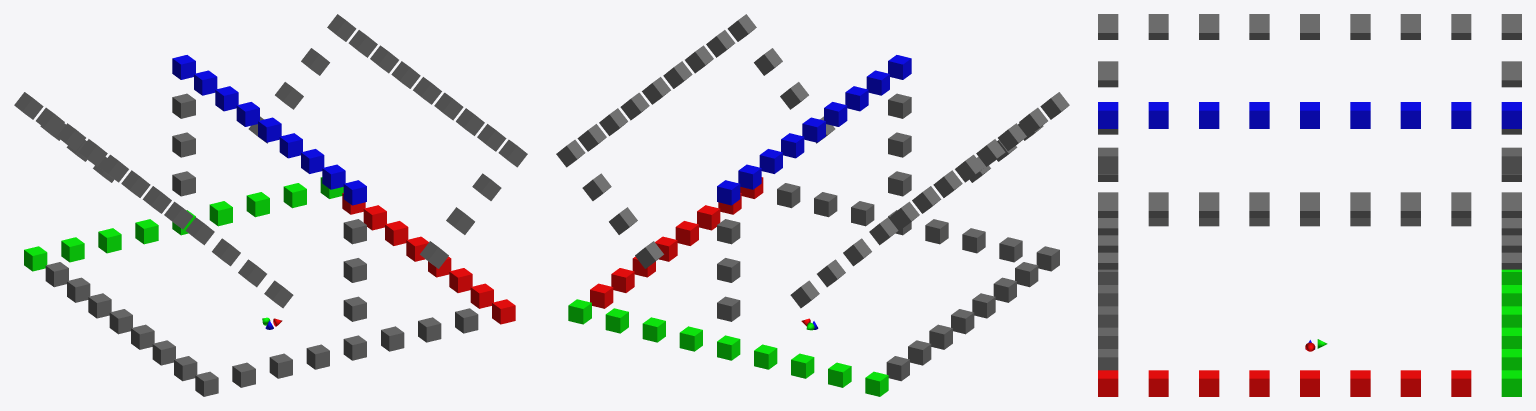
Rendered from Axis.obj.
3 renders of one model, left to right at view 1: azimuth 30°, elevation 25°; view 2: azimuth 150°, elevation 25°; view 3: azimuth 270°, elevation 25°, orthographic. The views are drawn at different scales.
Visible parts, largest first — view 1: Cube.061_Cube.064, Cube.013_Cube.014, Cube.062_Cube.065, Cube.014_Cube.015, Cube.012_Cube.013, Cube.048_Cube.051, Cube.020_Cube.021, Cube.003_Cube.004, Cube.029_Cube.030, Cube.016_Cube.017, Cube.060_Cube.063, Cube.049_Cube.052 (+30 smaller); view 2: Cube.049_Cube.052, Cube.003_Cube.004, Cube.048_Cube.051, Cube.004_Cube.005, Cube.002_Cube.003, Cube.062_Cube.065, Cube.030_Cube.031, Cube.013_Cube.014, Cube.021_Cube.022, Cube_Cube.001, Cube.061_Cube.064, Cube.050_Cube.053 (+30 smaller); view 3: Cube.060_Cube.063, Cube.050_Cube.053, Cube.059_Cube.062, Cube.058_Cube.061, Cube.057_Cube.060, Cube.056_Cube.059, Cube.054_Cube.057, Cube.053_Cube.056, Cube.052_Cube.055, Cube.051_Cube.054, Cube.012_Cube.013, Cube.011_Cube.012 (+42 smaller).
Part boxes in pixels (box(x1,y1,x2,y2)): Cube.061_Cube.064: box(172, 132, 195, 157); Cube.013_Cube.014: box(455, 308, 478, 333); Cube.062_Cube.065: box(172, 171, 195, 196); Cube.014_Cube.015: box(418, 317, 441, 342); Cube.012_Cube.013: box(492, 299, 515, 324); Cube.048_Cube.051: box(343, 296, 366, 321); Cube.020_Cube.021: box(61, 237, 84, 262); Cube.003_Cube.004: box(283, 183, 306, 208); Cube.029_Cube.030: box(195, 371, 218, 396); Cube.016_Cube.017: box(343, 335, 366, 360); Cube.060_Cube.063: box(172, 93, 195, 118); Cube.049_Cube.052: box(343, 258, 366, 282); Cube.049_Cube.052: box(888, 132, 911, 157); Cube.003_Cube.004: box(605, 308, 628, 333); Cube.048_Cube.051: box(888, 171, 911, 196); Cube.004_Cube.005: box(568, 299, 591, 324); Cube.002_Cube.003: box(642, 317, 665, 342); Cube.062_Cube.065: box(717, 296, 740, 321); Cube.030_Cube.031: box(999, 237, 1022, 262); Cube.013_Cube.014: box(777, 183, 800, 208); Cube.021_Cube.022: box(865, 371, 888, 396); Cube_Cube.001: box(717, 335, 740, 360); Cube.061_Cube.064: box(717, 258, 740, 282); Cube.050_Cube.053: box(888, 93, 911, 118); Cube.060_Cube.063: box(1501, 147, 1521, 174); Cube.050_Cube.053: box(1098, 147, 1118, 174); Cube.059_Cube.062: box(1501, 102, 1521, 128); Cube.058_Cube.061: box(1451, 102, 1471, 128); Cube.057_Cube.060: box(1400, 102, 1420, 128); Cube.056_Cube.059: box(1350, 102, 1370, 128); Cube.054_Cube.057: box(1249, 102, 1269, 128); Cube.053_Cube.056: box(1199, 102, 1219, 128); Cube.052_Cube.055: box(1148, 102, 1168, 128); Cube.051_Cube.054: box(1098, 102, 1118, 128); Cube.012_Cube.013: box(1098, 370, 1118, 396); Cube.011_Cube.012: box(1148, 370, 1168, 396).
Size of the model in its own units: 4.5 by 2.7 by 4.2.
